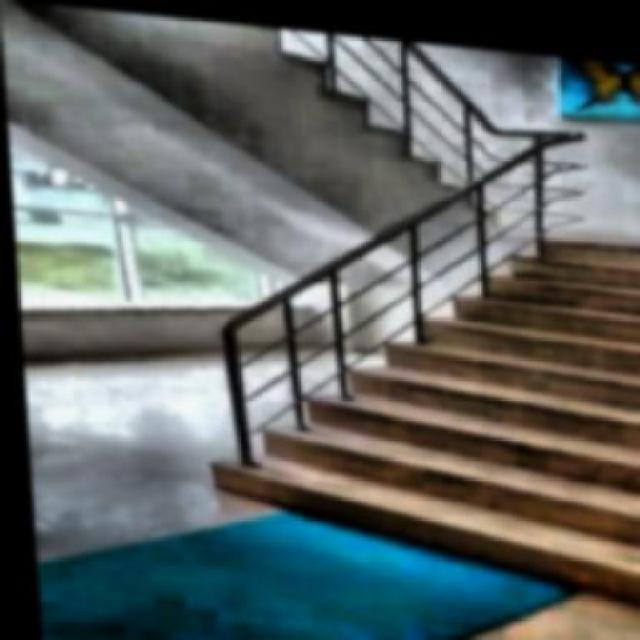stair: (143, 180, 639, 603)
